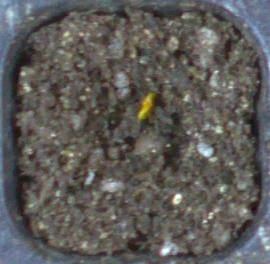pepper seed: (58, 30, 214, 151)
